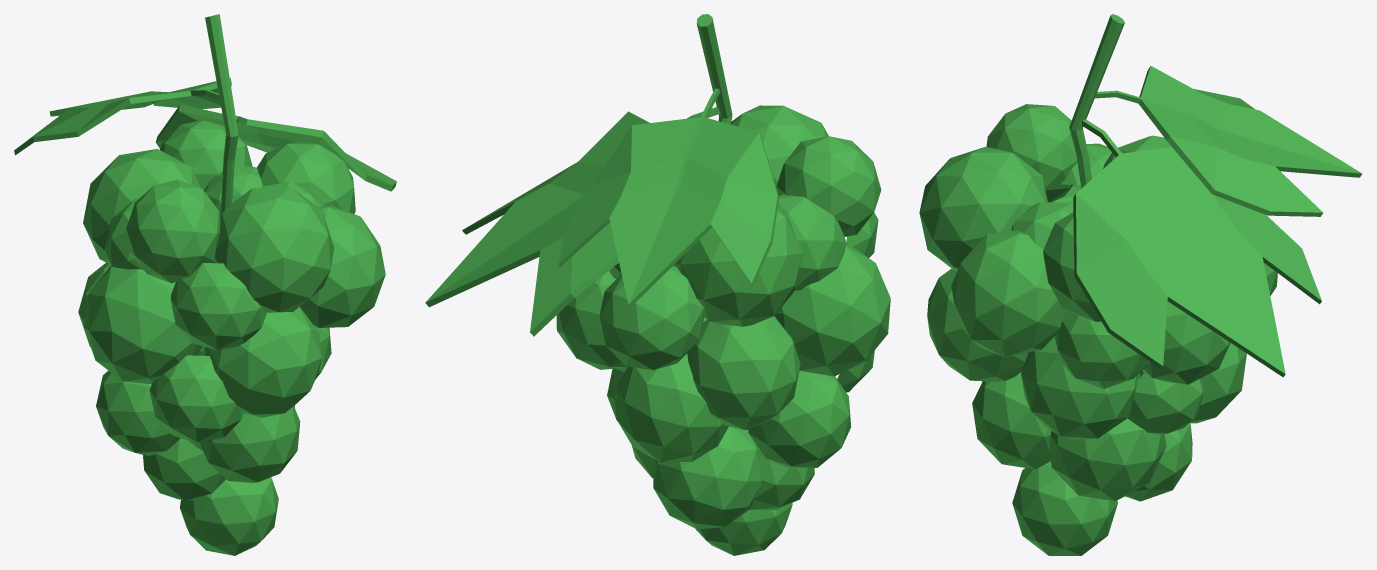
File: grape.gltf
3 views of the same model, side by side, from view 1: azimuth 30°, elevation 25°; view 2: azimuth 150°, elevation 25°; view 3: azimuth 270°, elevation 25° (orthographic). The views are drawn at different scales.
Visible parts, largest first — view 1: Icosphere.015_Icosphere.018; view 2: Icosphere.015_Icosphere.018; view 3: Icosphere.015_Icosphere.018.
Boxes of the visible parts, x1,y1,x2,y2 form: Icosphere.015_Icosphere.018: [14, 14, 396, 555]; Icosphere.015_Icosphere.018: [425, 14, 890, 555]; Icosphere.015_Icosphere.018: [919, 14, 1362, 555].
Size of the model in its own units: 6.95 by 9.84 by 7.28.
